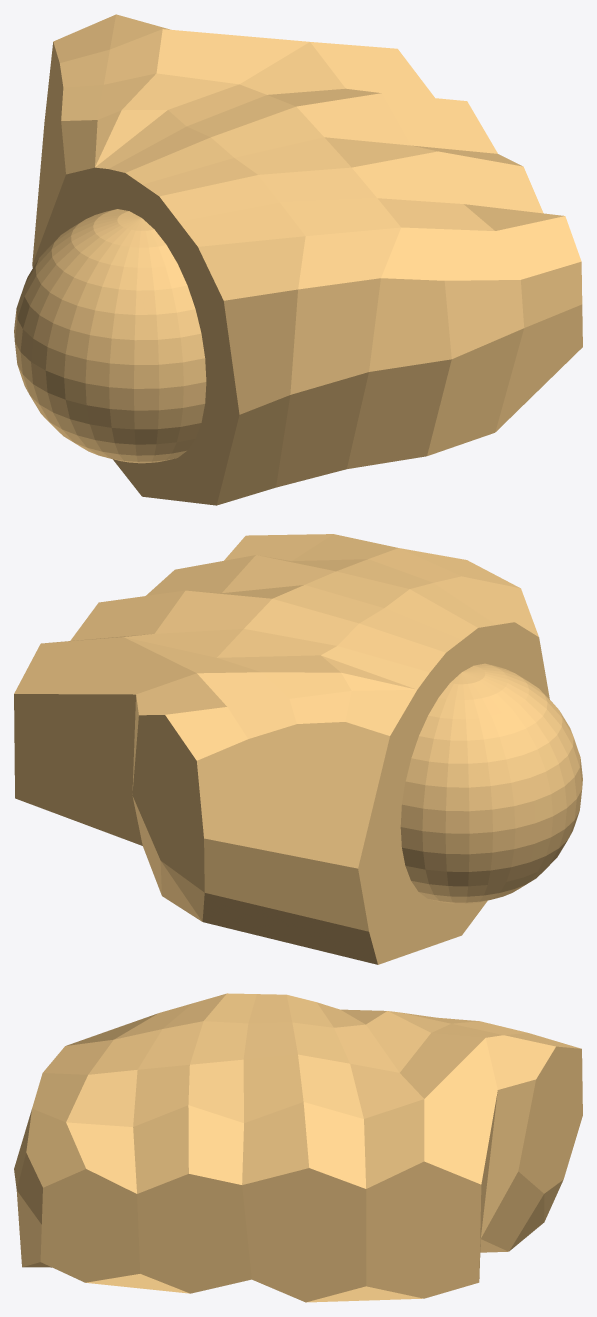
The model's file is R_hand.obj.
3 renders of one model, top to bottom at view 1: azimuth 30°, elevation 25°; view 2: azimuth 150°, elevation 25°; view 3: azimuth 270°, elevation 25°, orthographic. The views are drawn at different scales.
Visible parts, largest first — view 1: hand球.001_球.018; view 2: hand球.001_球.018; view 3: hand球.001_球.018.
Part boxes in pixels (bbox=[...]): hand球.001_球.018: bbox=[14, 14, 582, 505]; hand球.001_球.018: bbox=[14, 534, 582, 964]; hand球.001_球.018: bbox=[14, 993, 582, 1302].
Size of the model in its own units: 1.87 by 1.28 by 2.24.
